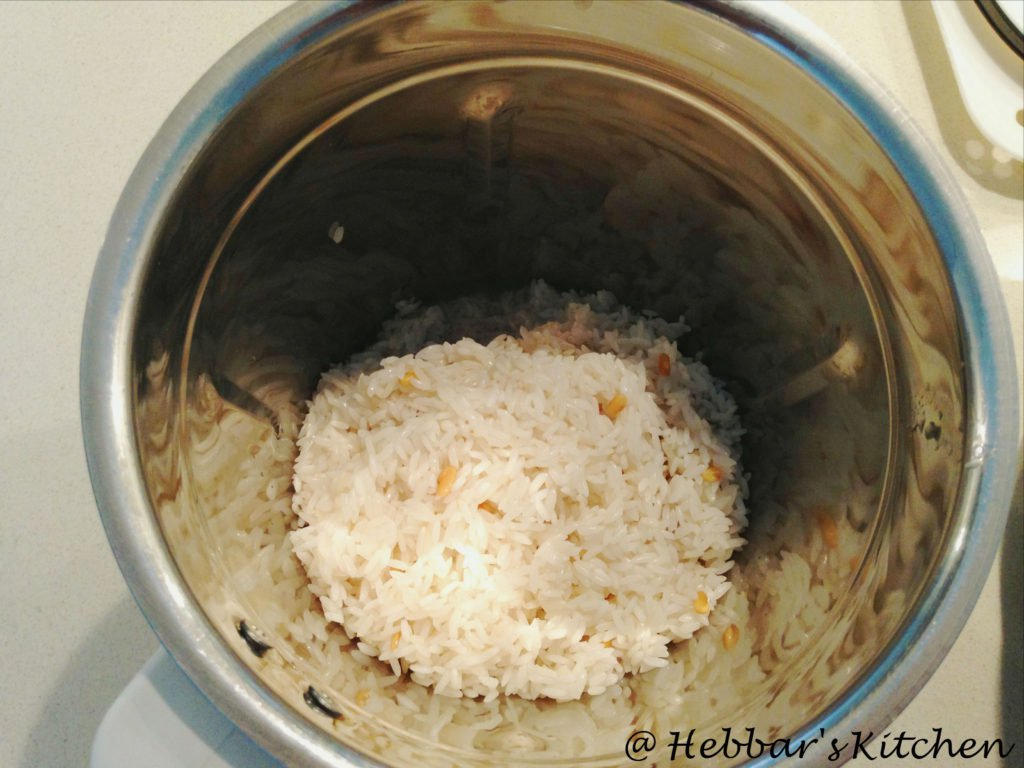plain rice: (301, 322, 729, 701)
